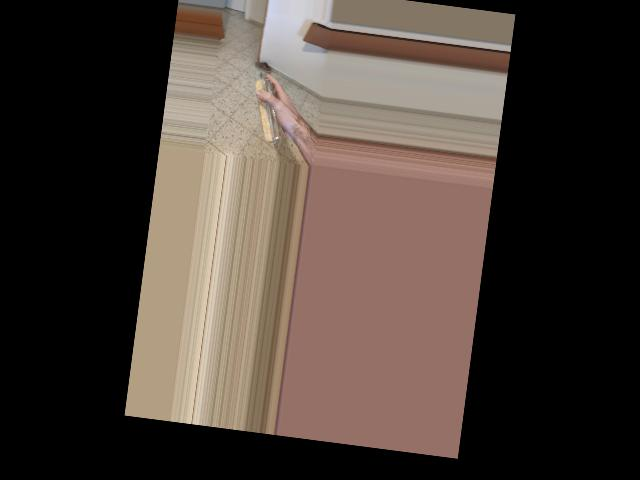cheese: (240, 67, 305, 139)
